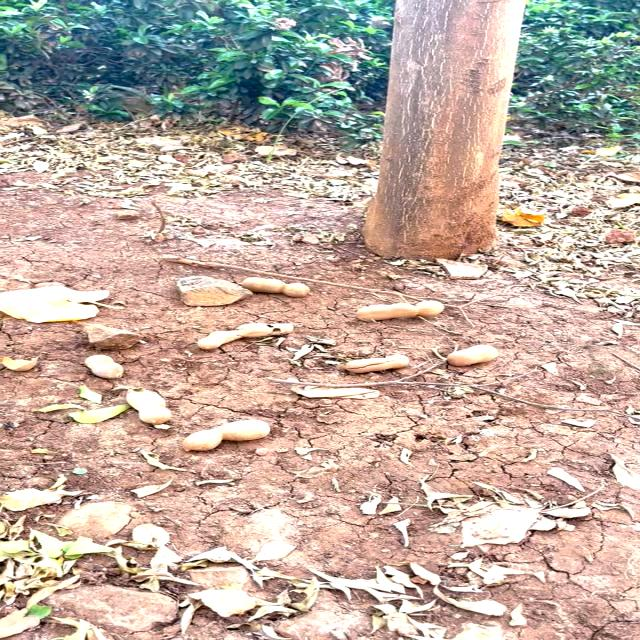tamarind: (180, 418, 279, 454), (347, 299, 457, 323), (194, 321, 274, 352), (236, 271, 317, 301), (124, 389, 180, 428), (339, 354, 416, 374), (443, 343, 498, 371), (84, 353, 128, 381)
